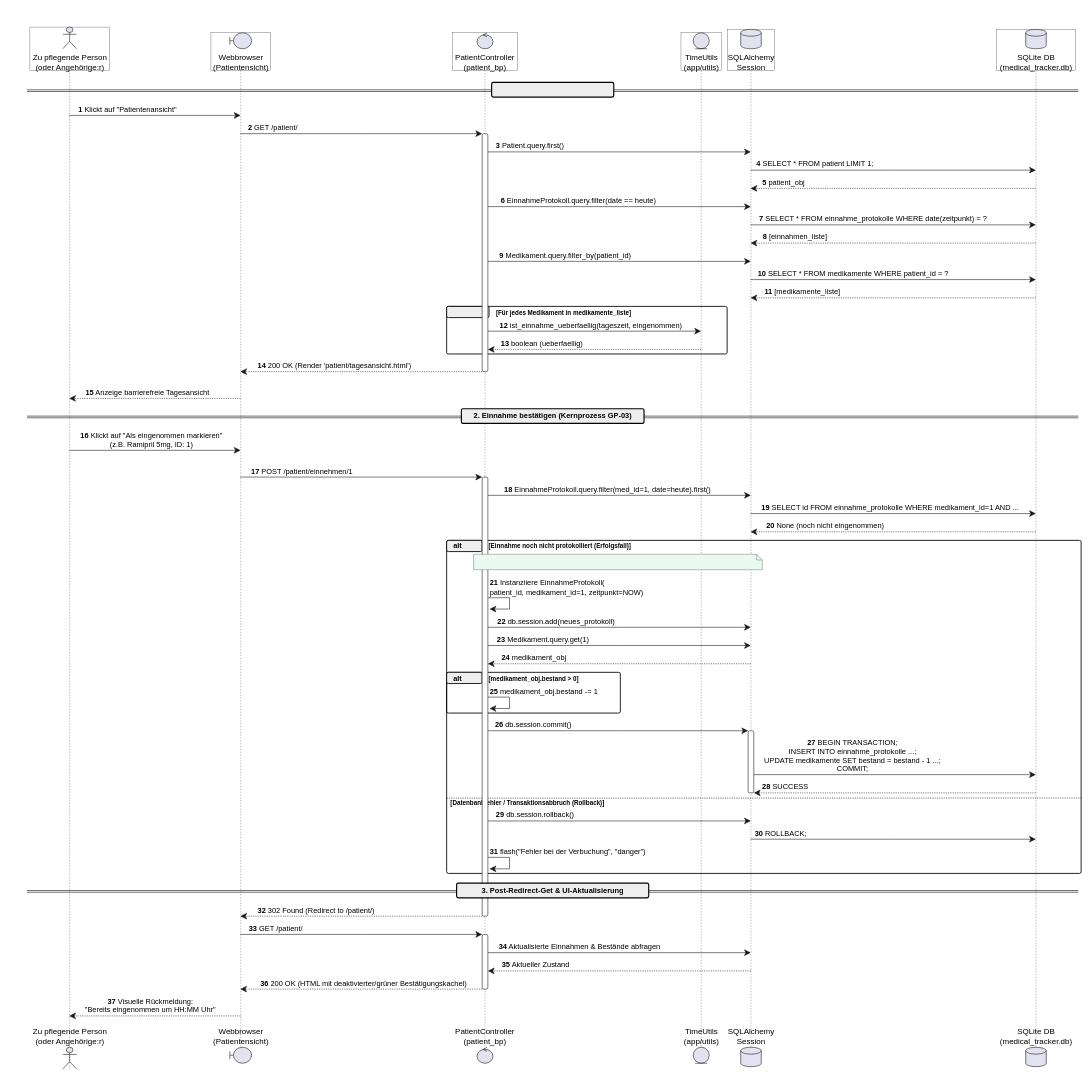
Some shapes in this 1092 by 1079 pixel diagram are drawn without their labels. Each missing label, with the centre of its shape:
"1. Initiale Tagesansicht laden" goes at point (552, 89).
"loop" goes at point (467, 312).
"Transaktionsstart (Atomarer Verbund nach GP-03 / FA-06 / FA-07)" goes at point (617, 562).
